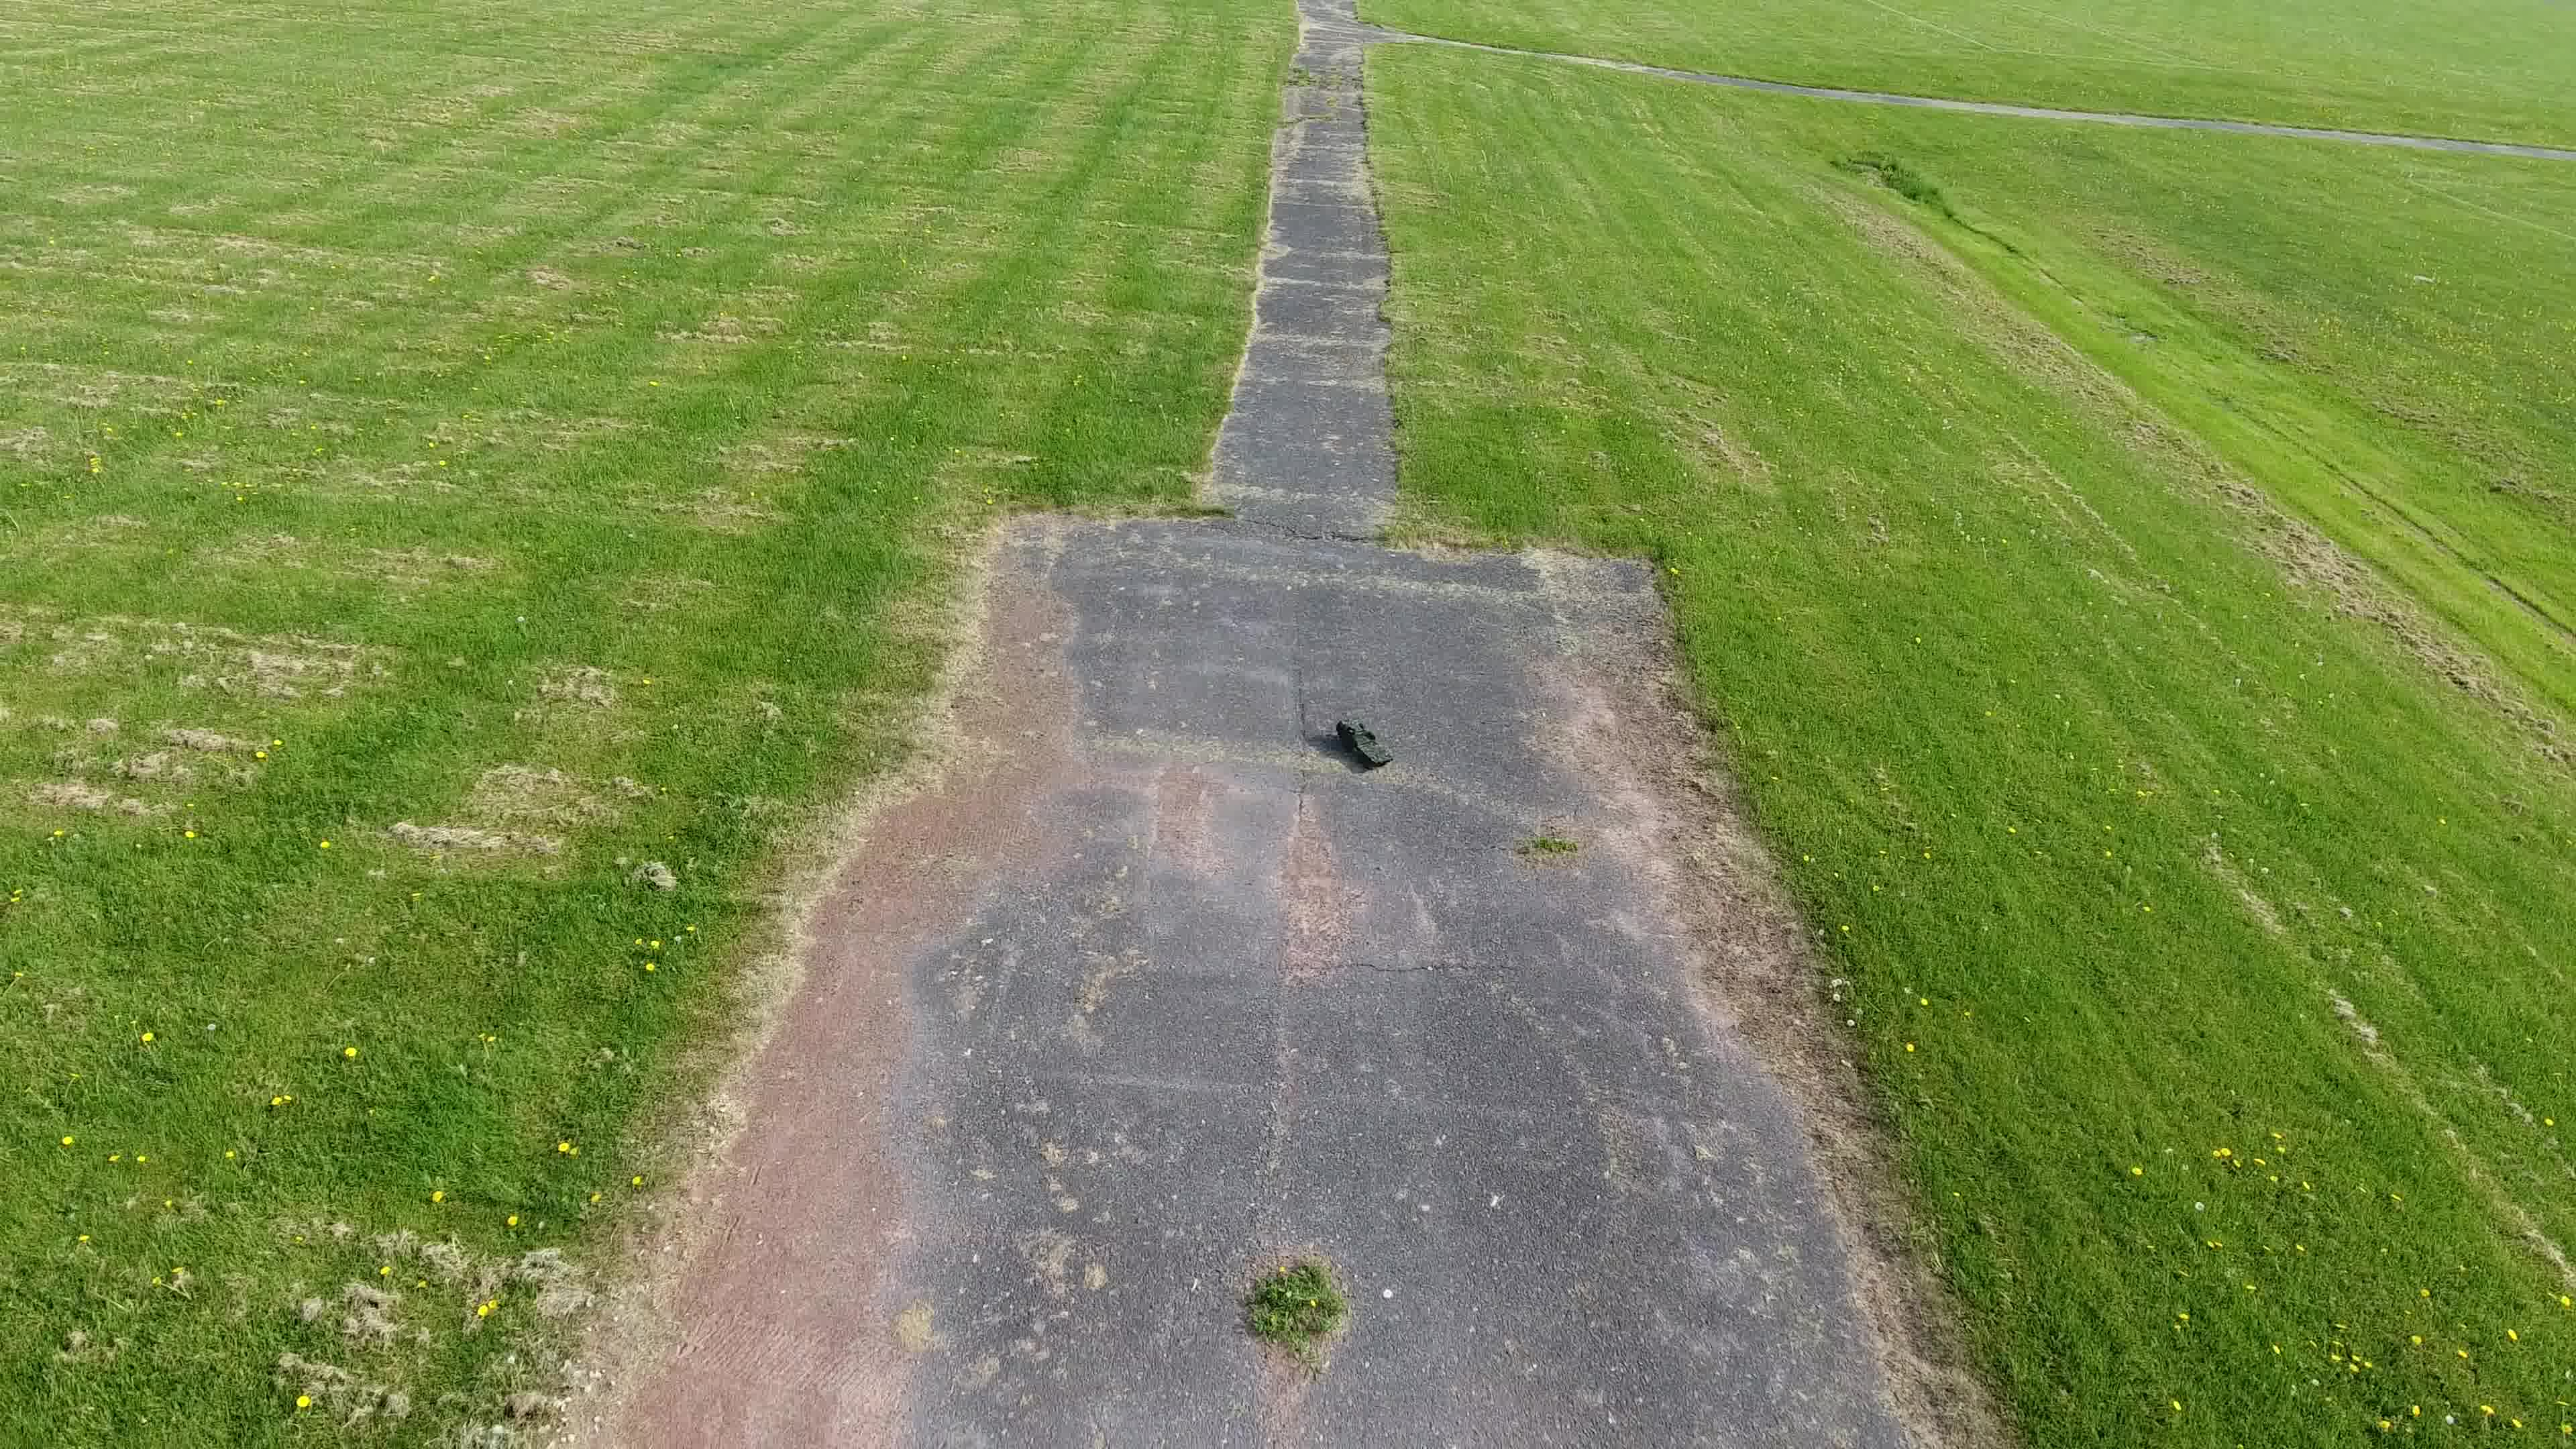transporter9: (1332, 717, 1396, 771)
